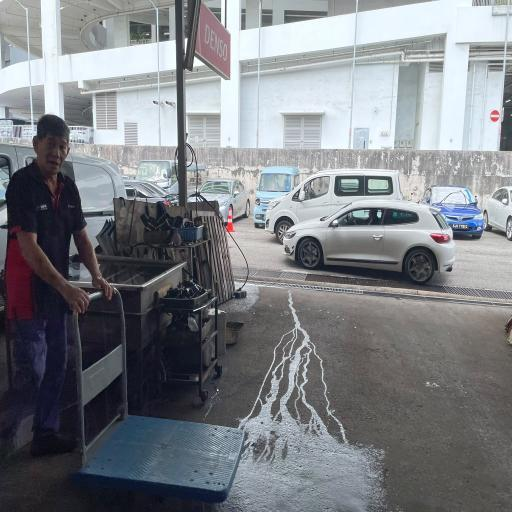person_right: (4, 112, 228, 502)
